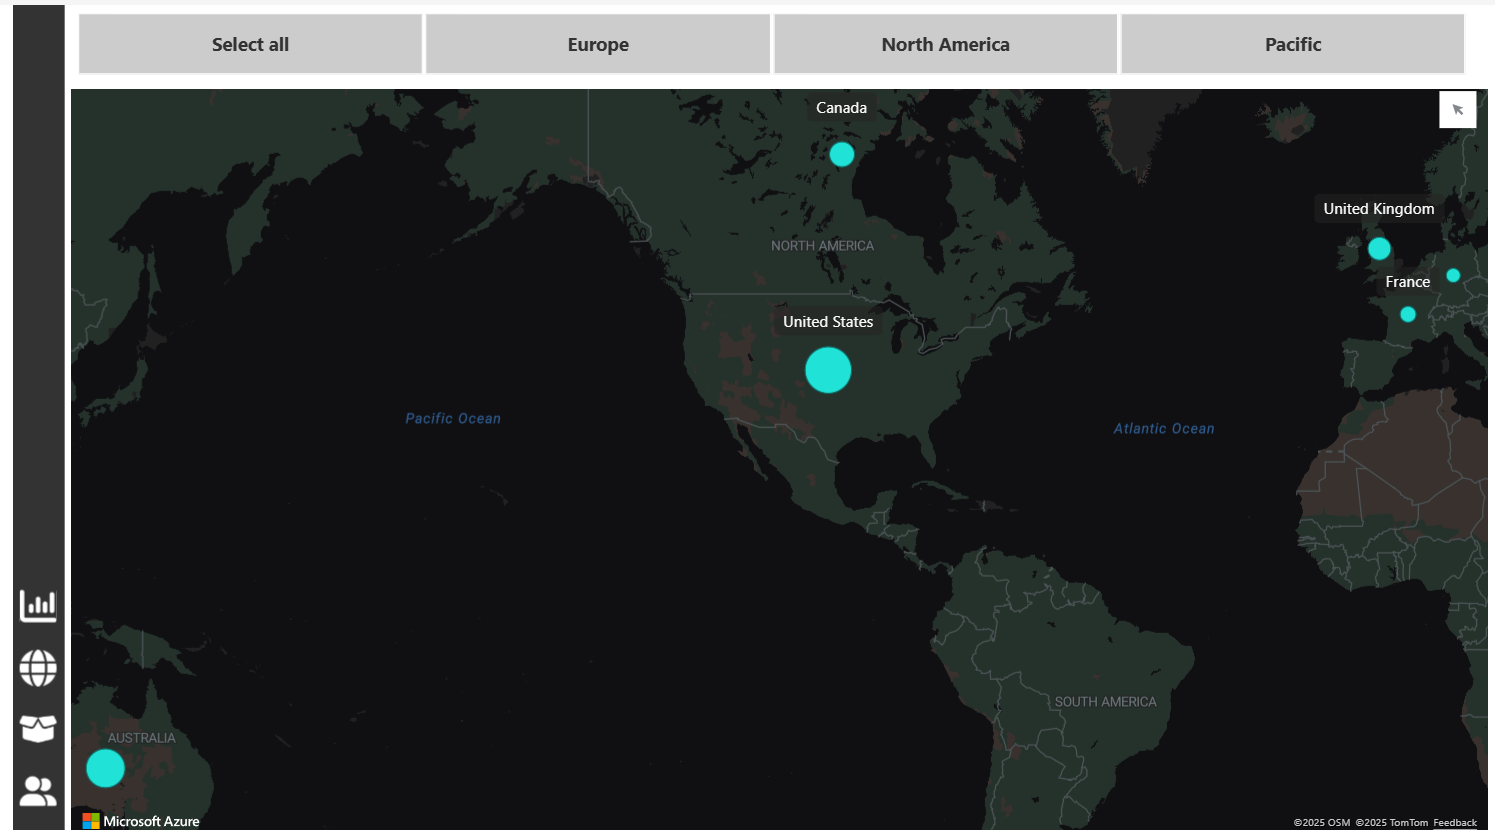

The dashboard page shown, as its layout file describes it:
{"tool":"powerbi","page":{"name":"Map","canvas":[1280,720],"ordinal":1},"visuals":[{"type":"slicer","fields":{"Values":["Territory Lookup.Continent"]},"box":[30.6,0,1249.4,67],"z":0},{"type":"azureMap","fields":{"Category":["Territory Lookup.Country"],"Size":["Measure Table.Total Orders"]},"box":[44.7,67,1235.3,653.5],"z":1000},{"type":"shape","title":"Left Nav Background","box":[0,0,44.7,720.5],"z":2000},{"type":"actionButton","box":[1.8,499.5,58.8,40],"z":3000,"group":"g1"},{"type":"actionButton","box":[1.8,606.1,58.8,40],"z":4000,"group":"g1"},{"type":"actionButton","box":[1.8,659.4,58.8,40],"z":5000,"group":"g1"},{"type":"actionButton","box":[1.8,552.8,58.8,40],"z":6000,"group":"g1"},{"type":"group","id":"g1","title":"Navigation Icons","box":[1.8,499.5,58.8,199.8],"z":6001}]}

Visuals, with their boxes in screenshot pixels (x1, y1, x2, y2):
slicer - Territory Lookup.Continent: left=43, top=8, right=1462, bottom=84
azureMap - Territory Lookup.Country x Measure Table.Total Orders: left=59, top=84, right=1462, bottom=826
"Left Nav Background" shape: left=8, top=8, right=59, bottom=826
actionButton: left=10, top=575, right=77, bottom=621
actionButton: left=10, top=696, right=77, bottom=742
actionButton: left=10, top=757, right=77, bottom=802
actionButton: left=10, top=636, right=77, bottom=681
"Navigation Icons" group: left=10, top=575, right=77, bottom=802
